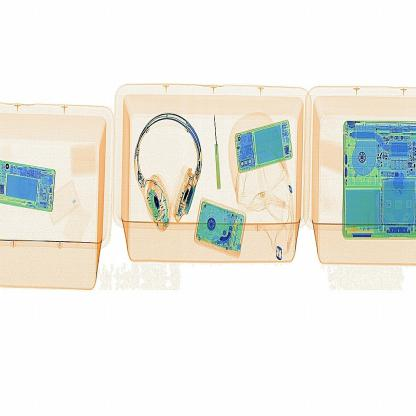wrench: (202, 102, 232, 197)
